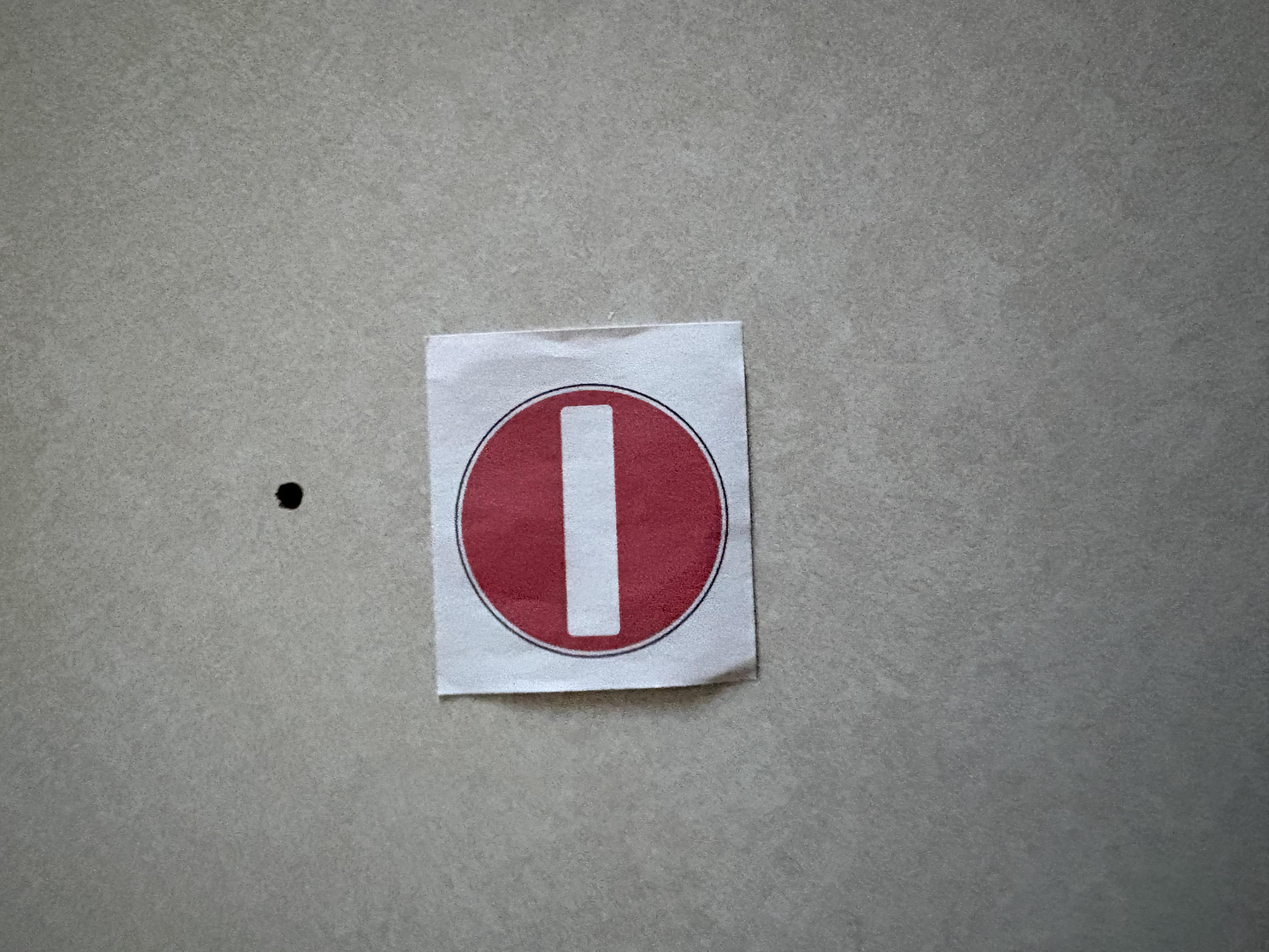No Entry: (428, 323, 761, 694)
